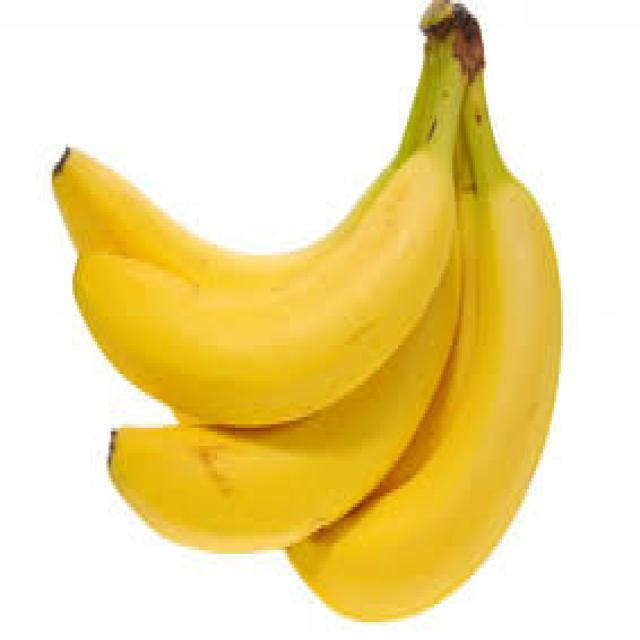organic waste: (281, 65, 558, 618), (70, 29, 457, 424), (104, 176, 461, 554), (50, 32, 441, 320)
